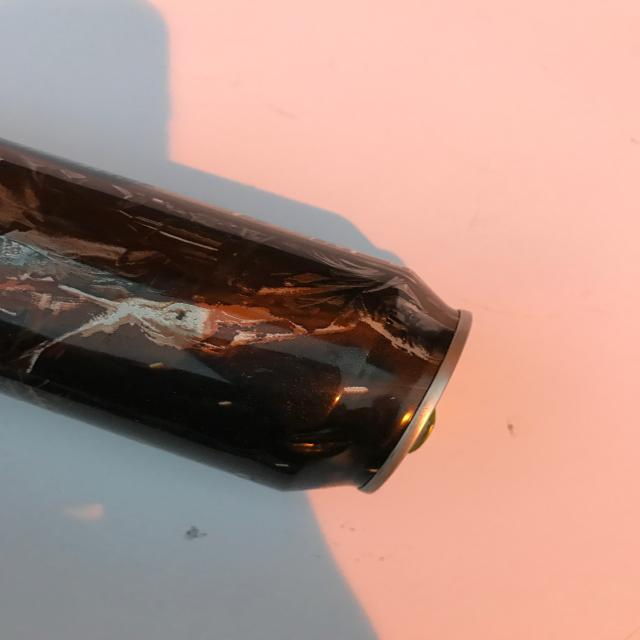metal: (1, 138, 473, 498)
